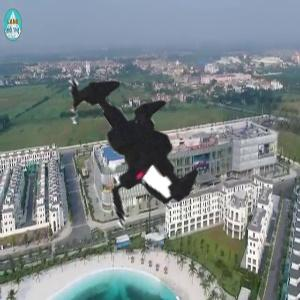drone: (1, 28, 246, 273)
